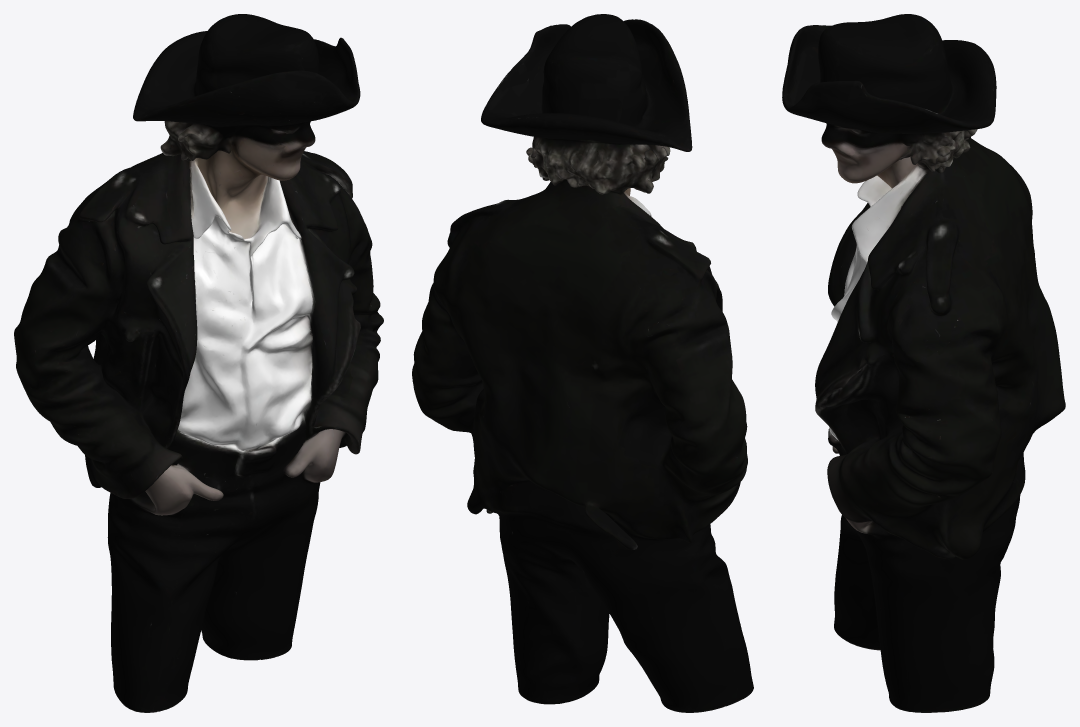
File: francesco_tizzano_bio.glb
3 renders of one model, left to right at view 1: azimuth 30°, elevation 25°; view 2: azimuth 150°, elevation 25°; view 3: azimuth 270°, elevation 25°, orthographic. The views are drawn at different scales.
Parts seen in each view (by area): view 1: world; view 2: world; view 3: world.
Boxes of the visible parts, x1,y1,x2,y2 form: world: [14, 14, 383, 712]; world: [412, 14, 753, 712]; world: [782, 14, 1065, 712].
Size of the model in its own units: 0.5571 by 1 by 0.387.
Materials: 1 (1 with a texture image).
